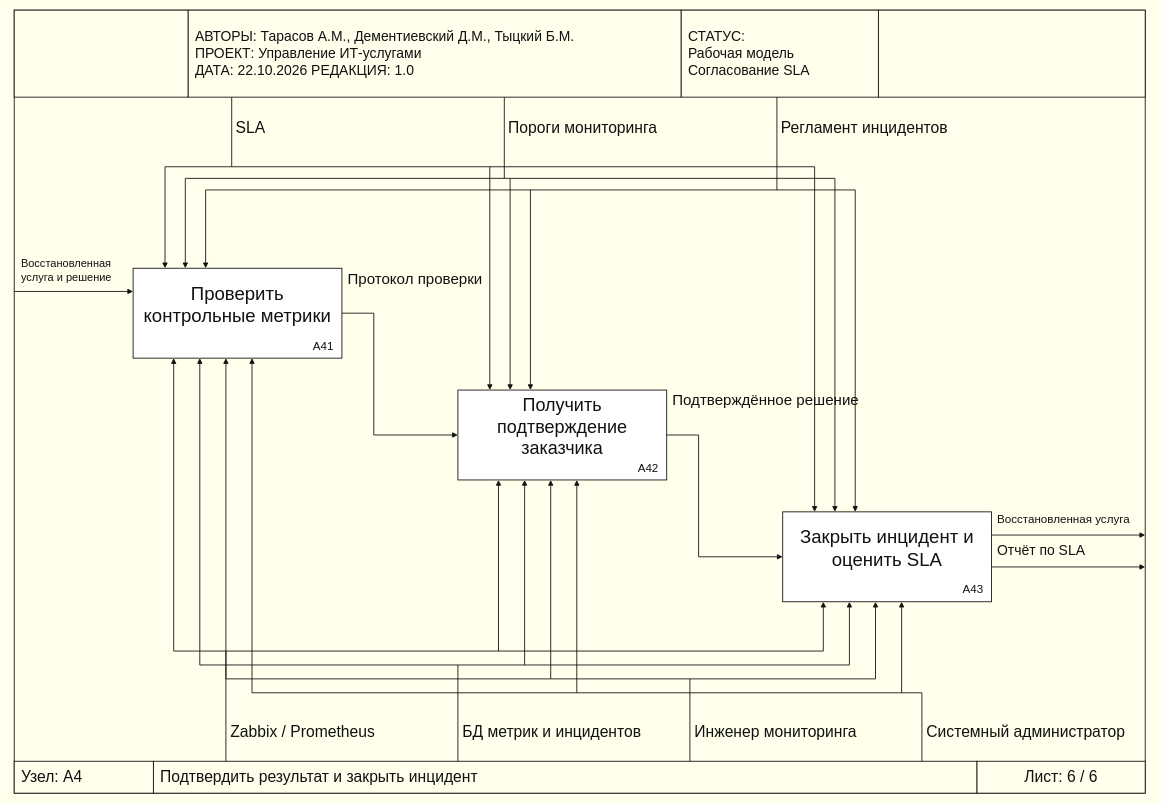
The diagram is 1161 pixels wide and 804 high, and some of its shapes have lost their labels. The centre of each missing label's shape, as x and y in pixels:
"ИСПОЛЬЗУЕТСЯ В: Учебный проект ООО «ТехноСервис»" belongs at pixel 101 53.
"КОНТЕКСТ: A0 УЗЕЛ: A4 ГРУППА: ИКБО-74-23" belongs at pixel 1011 53.
